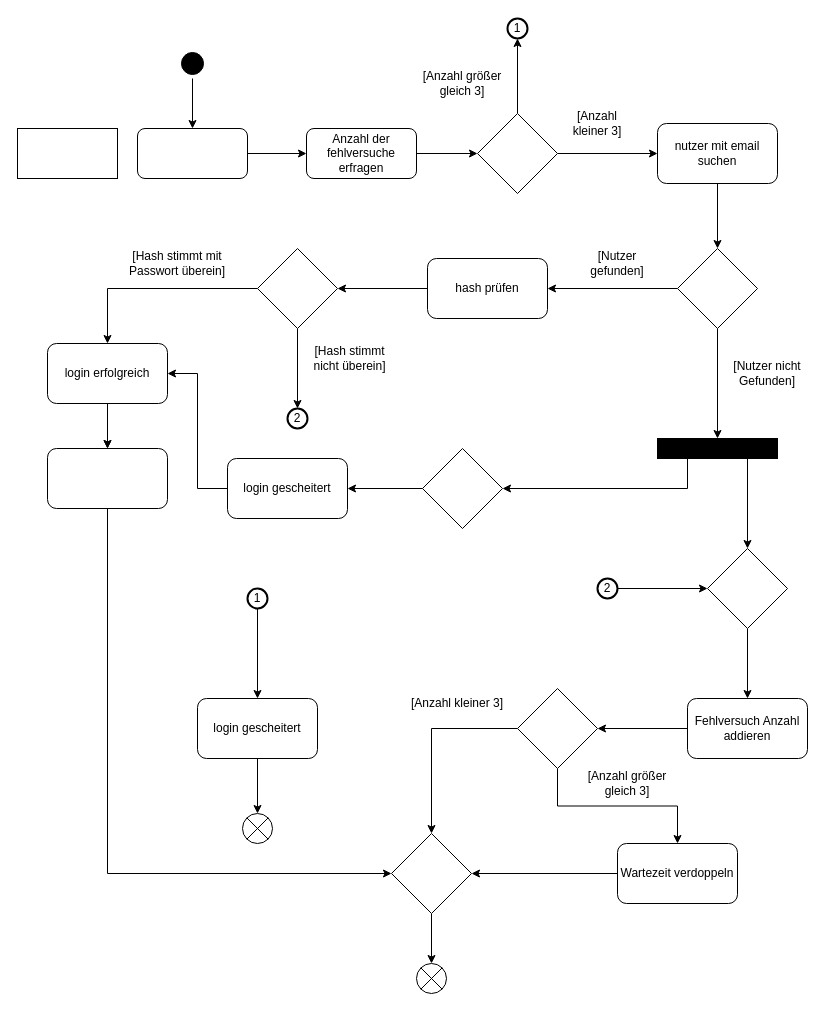
The diagram is 835 pixels wide and 1011 high, and some of its shapes have lost their labels. The centre of each missing label's shape, as x and y in pixels:
"Email und Passwort Eingegeben" goes at [192,153].
"Nutzer" goes at [67,153].
"reset retryCount to zero" goes at [107,478].
